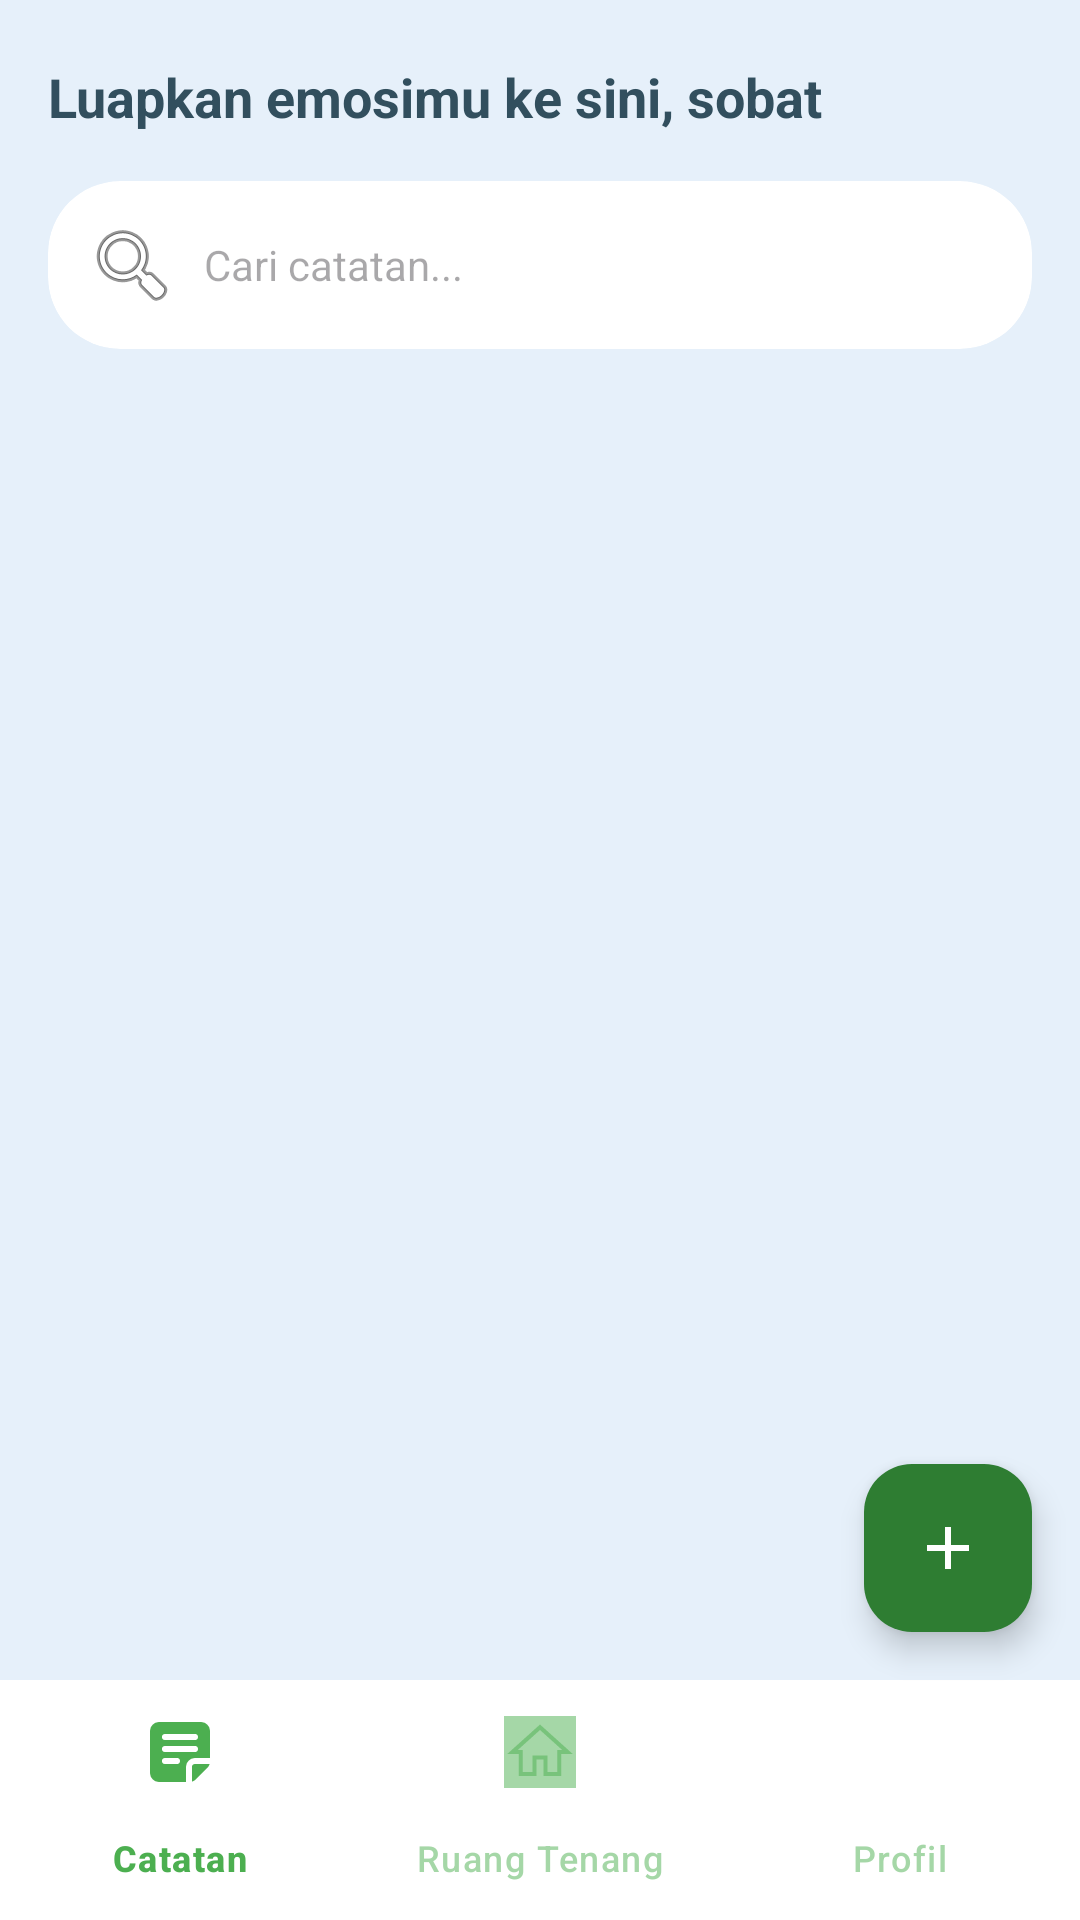

Where icons sit on this 1080px×1920px app screen, as (x1, y1, x2, y2):
Tambah catatan baru: (864, 1464, 1032, 1632)
